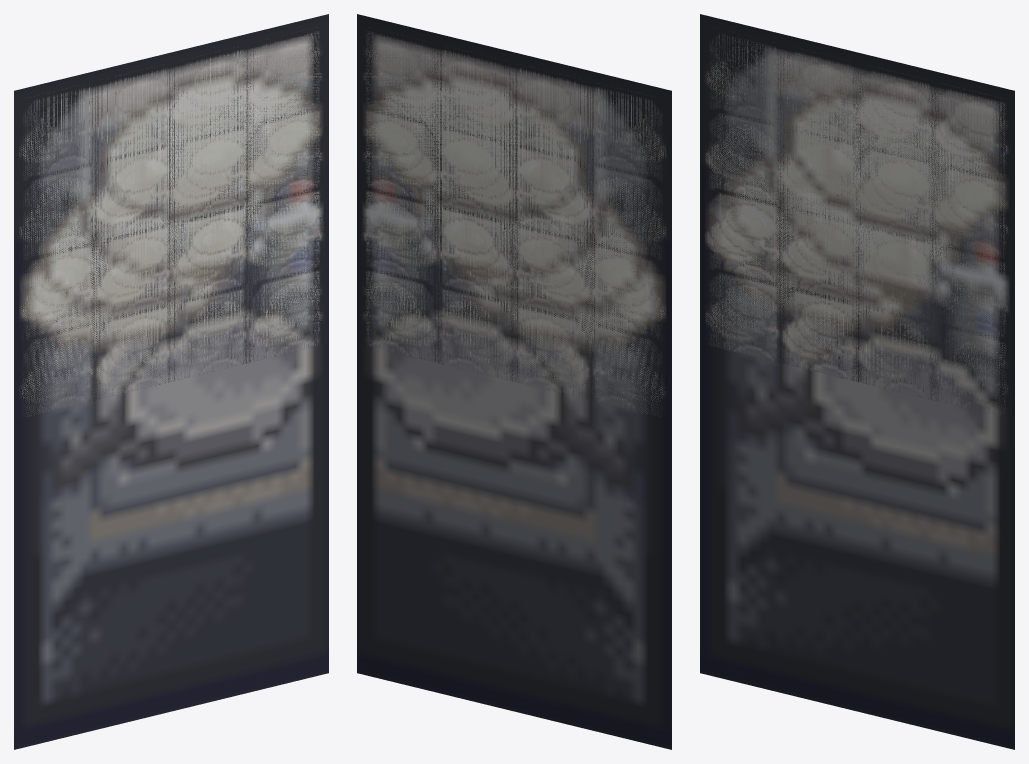
Rendered from Sink_Right.glb.
3 views of the same model, side by side, from view 1: azimuth 30°, elevation 25°; view 2: azimuth 150°, elevation 25°; view 3: azimuth 330°, elevation 25° (orthographic).
Parts seen in each view (by area): view 1: Renderer (×2); view 2: Renderer (×2); view 3: Renderer (×2).
Boxes of the visible parts, x1,y1,x2,y2 form: Renderer (×2): [14, 14, 328, 749]; Renderer (×2): [357, 14, 671, 749]; Renderer (×2): [700, 14, 1014, 749].
Bounding box in the file's own units: 1.03 × 2.06 × 6.12e-17.
2 materials, 2 textured.
